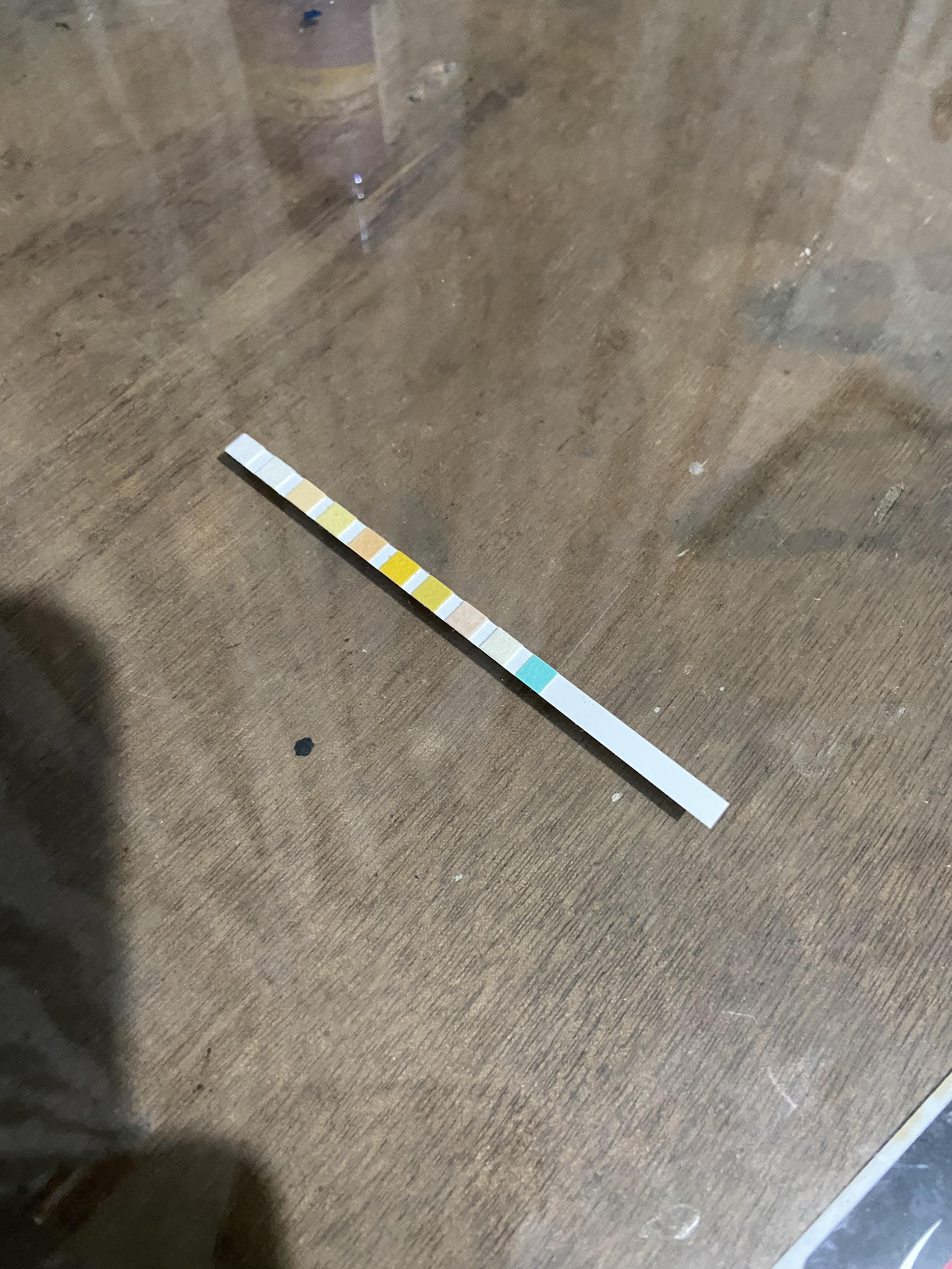Bilirubin: (490, 638, 511, 655)
Blood: (389, 560, 412, 576)
Glucose: (528, 663, 546, 684)
Ketone: (455, 612, 479, 628)
Leukocytes: (235, 442, 256, 458)
Nitrite: (266, 465, 285, 481)
Protein: (326, 512, 347, 527)
SpGravity: (421, 585, 445, 602)
Urobilinogen: (295, 488, 317, 504)
pH: (358, 536, 379, 553)
strip: (225, 434, 731, 827)
